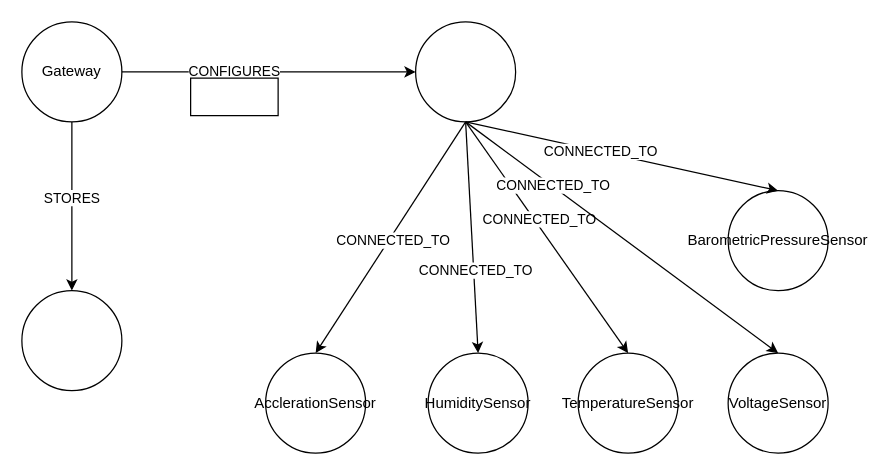
This 890x475 diagram has some shape labels left out. The box of each missing label's shape, as (x1, y1, x2, y2) in pixels:
Config: (21, 289, 122, 391)
Parameters: (189, 77, 278, 116)
Tag: (414, 21, 516, 122)
